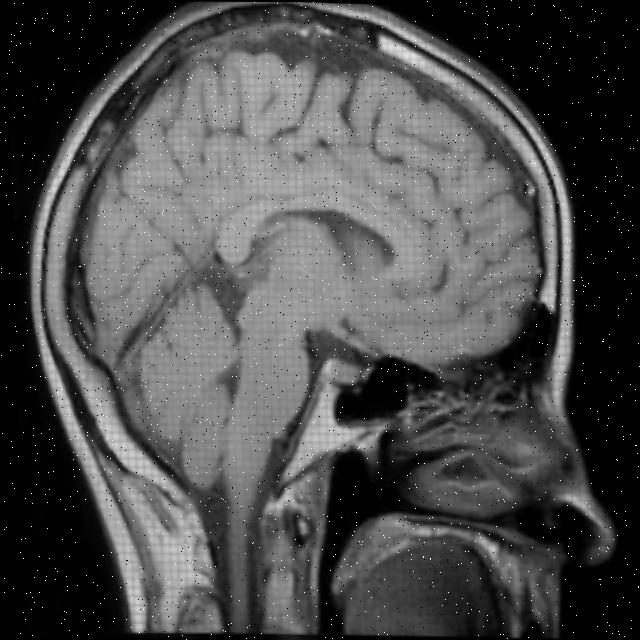NoTumor: (16, 0, 588, 498)
